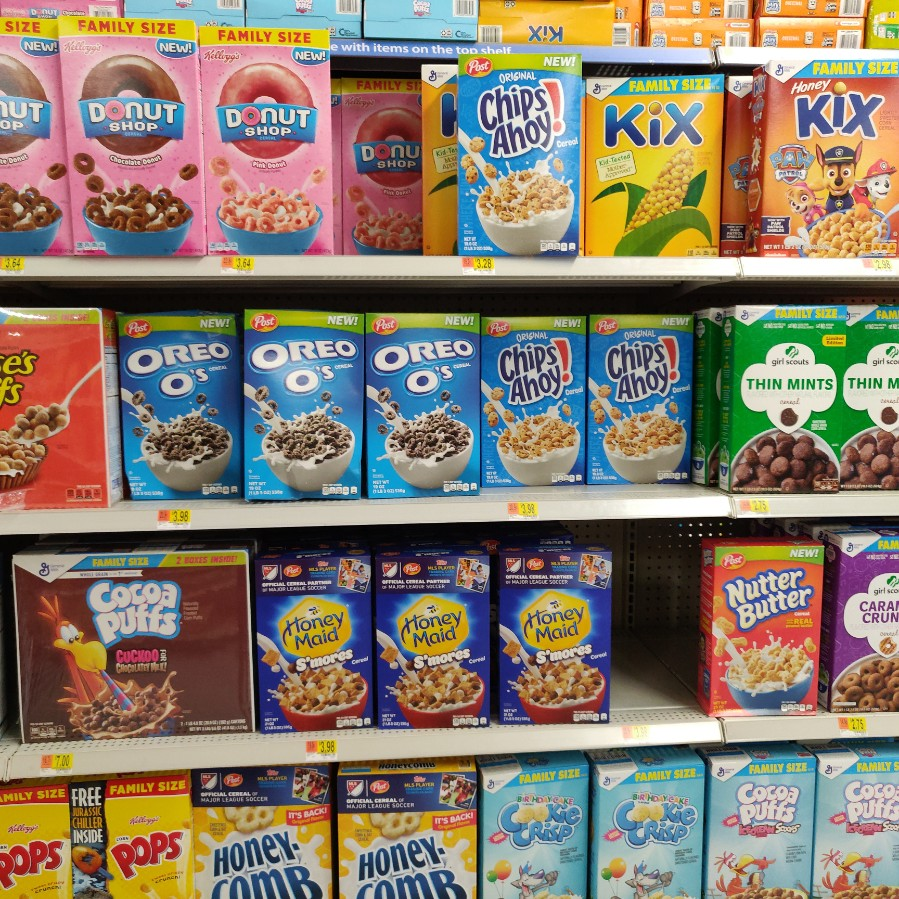Chips Ahoys-565717529: (460, 51, 577, 252), (588, 313, 694, 483), (482, 315, 582, 487)
Oreo-563424384: (119, 315, 252, 500), (243, 309, 368, 500), (367, 307, 485, 488), (337, 772, 480, 899), (196, 772, 332, 897)
